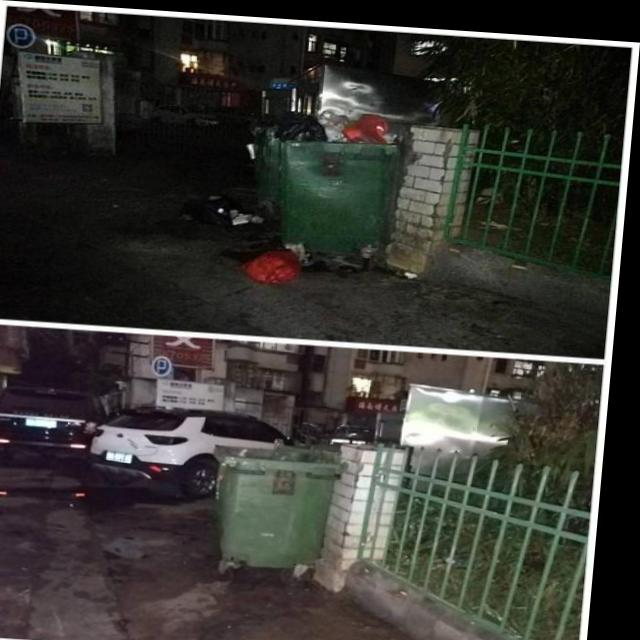garbage: (241, 242, 305, 281)
garbage_bin: (214, 438, 350, 567)
overflow: (267, 103, 405, 251)
